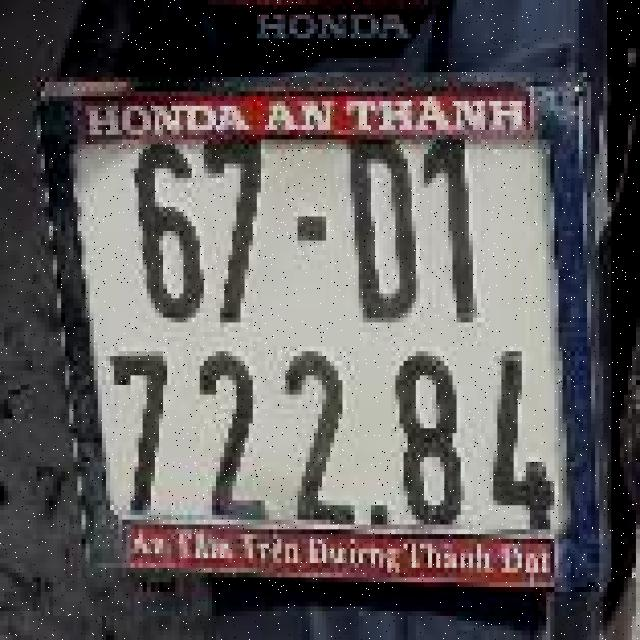1: (416, 128, 497, 334)
2: (275, 335, 365, 546), (186, 344, 275, 532)
4: (479, 342, 565, 539)
6: (126, 132, 208, 330)
7: (96, 334, 177, 512), (204, 123, 265, 320)
8: (381, 342, 471, 544)
D: (328, 118, 426, 330)
